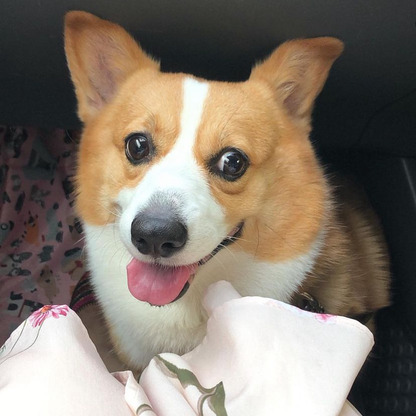Corgi: (48, 23, 367, 336)
